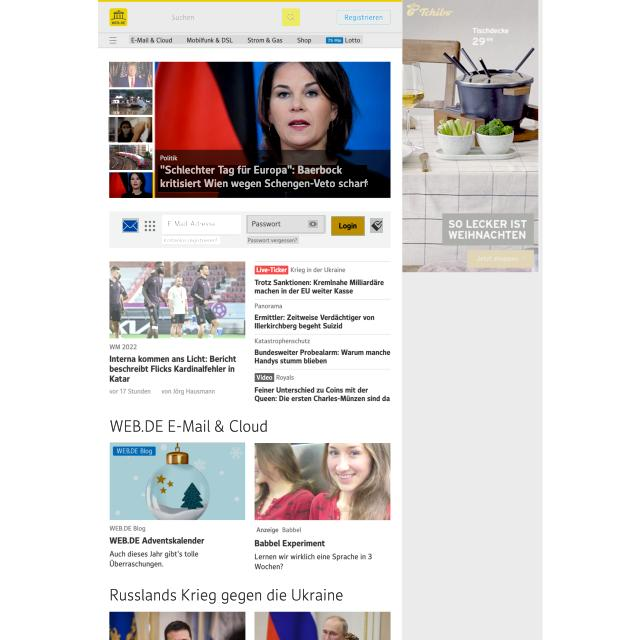CheckBox: (336, 9, 391, 25), (331, 216, 365, 236), (162, 236, 220, 244), (247, 236, 299, 244), (282, 8, 300, 26)
CheckedTextView: (163, 8, 302, 28), (246, 216, 326, 236), (162, 216, 241, 236)
ImageView: (402, 0, 540, 273)
RadioButton: (254, 265, 289, 275), (254, 525, 281, 535), (254, 372, 274, 383)
bag: (98, 0, 402, 48)
breadcrumbs: (109, 584, 348, 606), (108, 415, 276, 437)
card: (156, 62, 390, 198)
carousel: (122, 218, 139, 233), (370, 218, 383, 233), (308, 222, 318, 230)
copy: (254, 442, 392, 520), (109, 261, 246, 339), (110, 442, 245, 520), (109, 172, 153, 198), (109, 145, 152, 171), (108, 117, 152, 142), (110, 61, 152, 87), (109, 90, 152, 114)
date picker: (108, 7, 128, 27)
decoration: (129, 35, 363, 44), (107, 35, 119, 46)
footer: (170, 12, 196, 22)
image: (158, 166, 367, 193)
